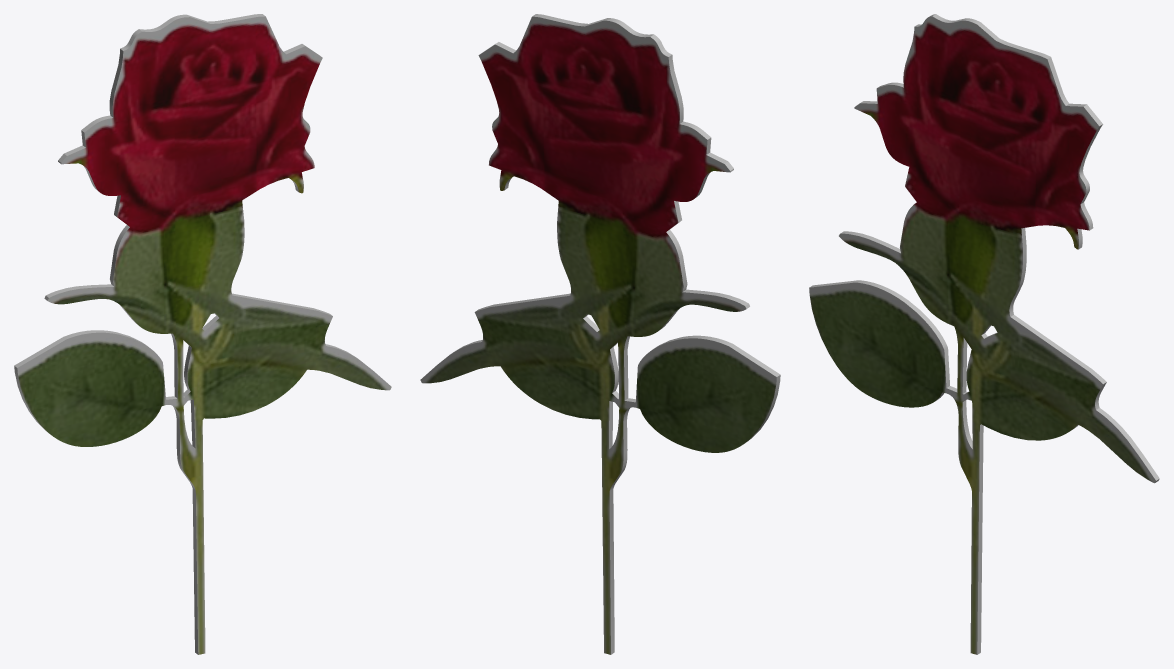
Rendered from noice.glb.
3 renders of one model, left to right at view 1: azimuth 30°, elevation 25°; view 2: azimuth 150°, elevation 25°; view 3: azimuth 330°, elevation 25°, orthographic. The views are drawn at different scales.
Visible parts, largest first — view 1: Layer 1; view 2: Layer 1; view 3: Layer 1.
Boxes of the visible parts, <box> form: Layer 1: <box>14,14,391,654</box>; Layer 1: <box>420,14,780,654</box>; Layer 1: <box>809,14,1159,654</box>.
Size of the model in its own units: 0.2432 by 0.4049 by 0.0181.
Materials: 3 (3 with a texture image).
